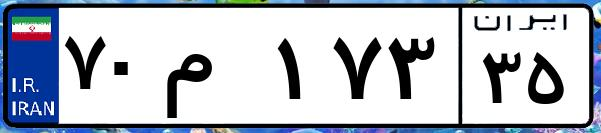0: (110, 28, 158, 98)
1: (270, 28, 330, 110)
3: (385, 28, 445, 110), (475, 38, 525, 113)
5: (525, 38, 570, 115)
7: (330, 28, 385, 110), (57, 26, 110, 100)
م: (158, 20, 270, 120)
